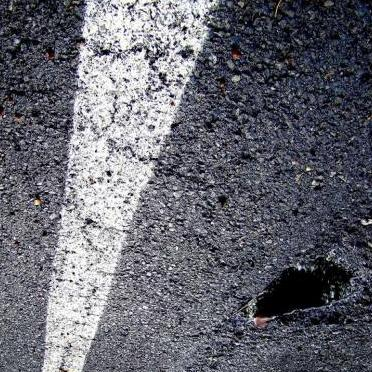pothole: (236, 240, 372, 334)
